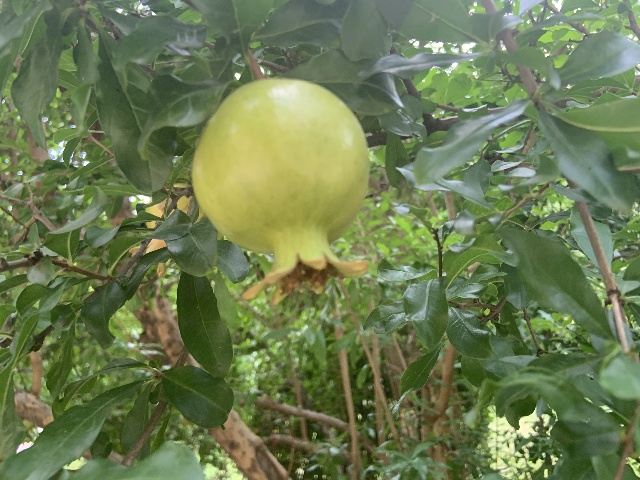mid-growth: (190, 77, 371, 306)
